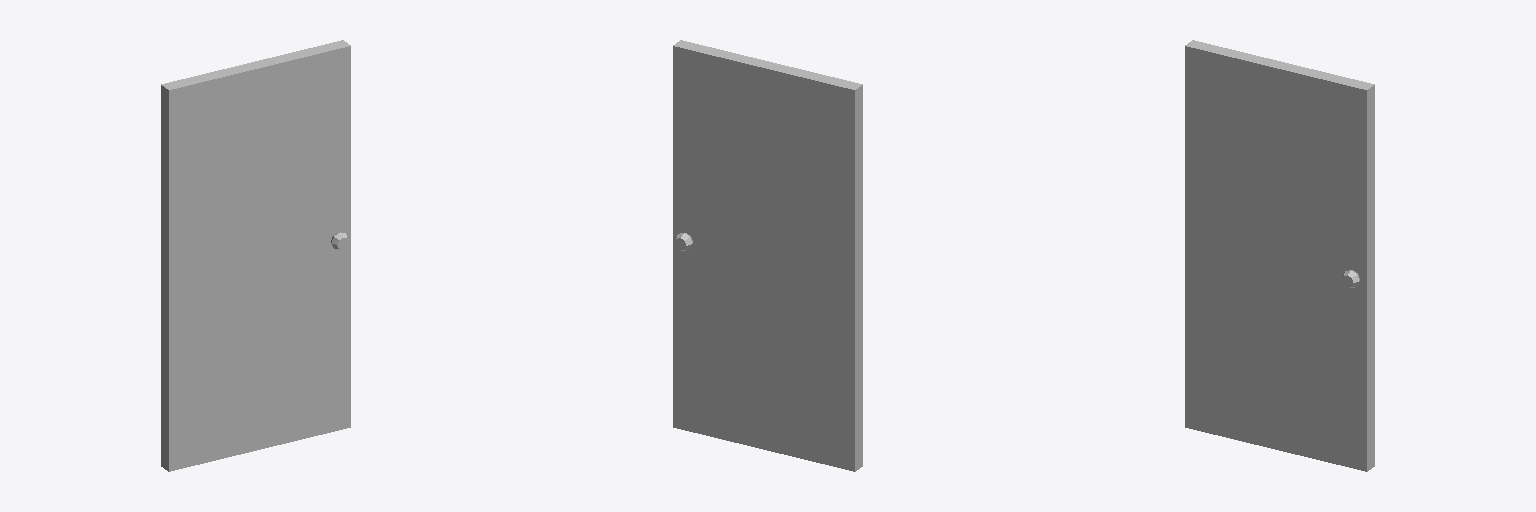
File: Door.obj
The picture shows the model from 3 angles: view 1: azimuth 30°, elevation 25°; view 2: azimuth 150°, elevation 25°; view 3: azimuth 330°, elevation 25°; orthographic projection.
Parts seen in each view (by area): view 1: Cube.011; view 2: Cube.011; view 3: Cube.011.
Boxes of the visible parts, box(x1,y1,x2,y2) form: Cube.011: box(161, 40, 350, 471); Cube.011: box(673, 40, 862, 471); Cube.011: box(1185, 40, 1374, 471).
Size of the model in its own units: 5 by 10 by 0.9426.